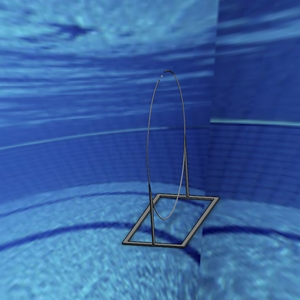circle: (120, 68, 221, 247)
